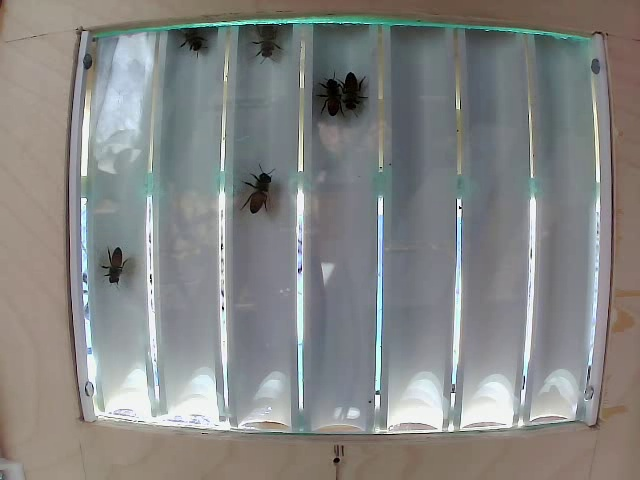bee: (242, 14, 298, 75), (90, 238, 144, 295), (245, 162, 284, 229), (175, 21, 210, 69), (320, 71, 351, 121), (345, 63, 371, 120)
